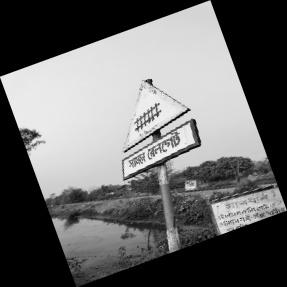Rail-crossing: (122, 79, 200, 181)
